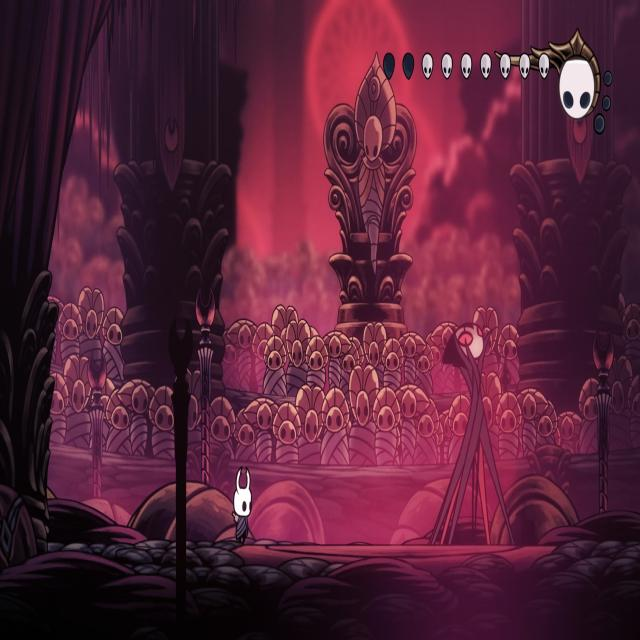Grimm: (429, 311, 511, 540)
Player: (228, 461, 254, 546)
